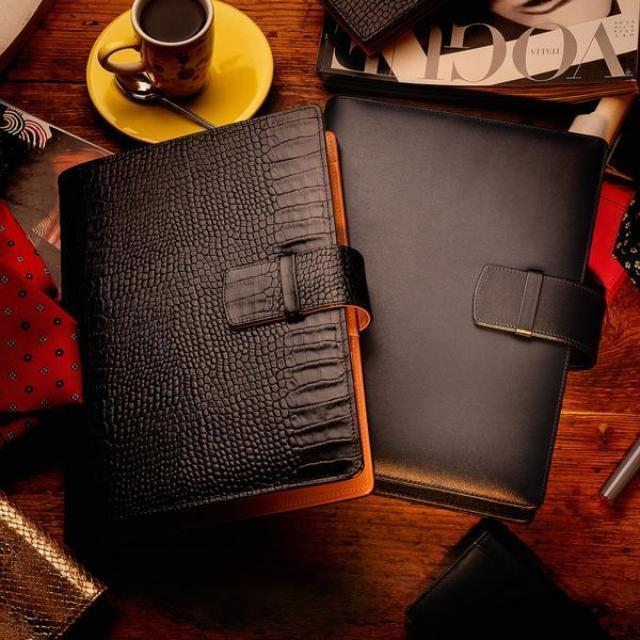wallet: (50, 104, 376, 546), (328, 86, 614, 532)
